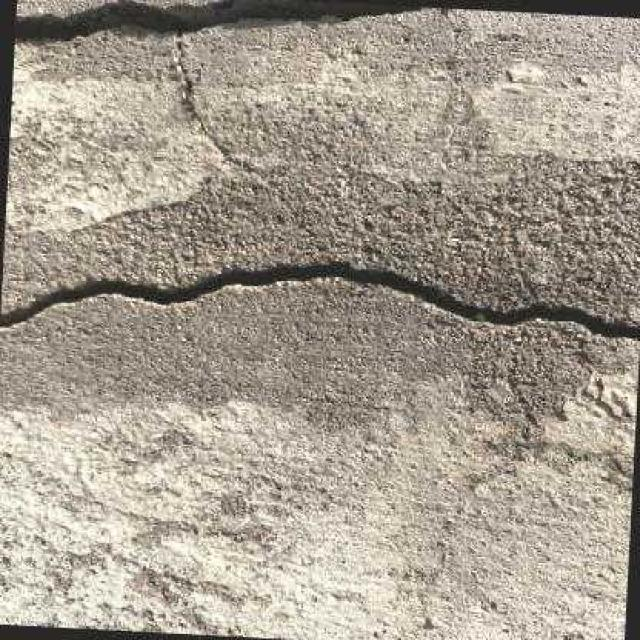D00: (17, 0, 433, 173), (0, 257, 640, 339)
